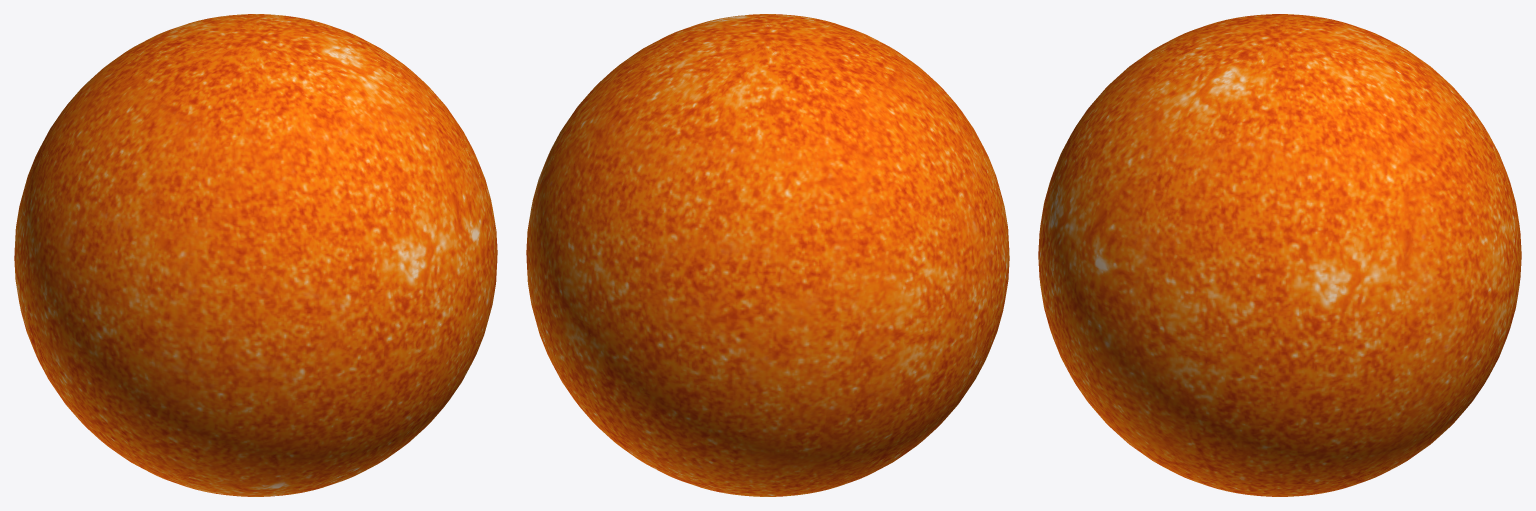
The model's file is Sun.obj.
The picture shows the model from 3 angles, left to right: view 1: azimuth 30°, elevation 25°; view 2: azimuth 150°, elevation 25°; view 3: azimuth 270°, elevation 25°; orthographic projection.
Parts seen in each view (by area): view 1: UnstableStarref; view 2: UnstableStarref; view 3: UnstableStarref.
Boxes of the visible parts, x1,y1,x2,y2 form: UnstableStarref: [14, 14, 497, 496]; UnstableStarref: [526, 14, 1009, 496]; UnstableStarref: [1038, 14, 1521, 496].
Size of the model in its own units: 20.2 by 20.2 by 20.2.
Materials: 2 (1 with a texture image).
